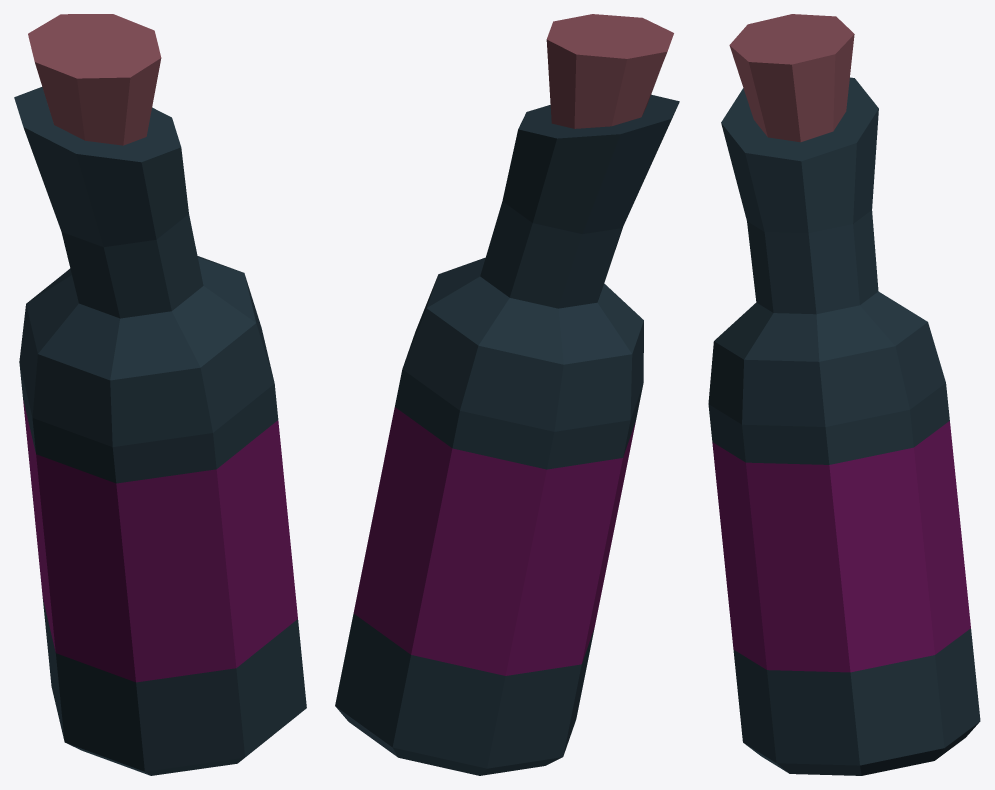
The model's file is FizzyDrink.MarlonTasty.fbx.
3 renders of one model, left to right at view 1: azimuth 30°, elevation 25°; view 2: azimuth 150°, elevation 25°; view 3: azimuth 270°, elevation 25°, orthographic. The views are drawn at different scales.
Parts seen in each view (by area): view 1: FizzyDrink.MarlonTasty; view 2: FizzyDrink.MarlonTasty; view 3: FizzyDrink.MarlonTasty.
Boxes of the visible parts, x1,y1,x2,y2 form: FizzyDrink.MarlonTasty: (14, 14, 306, 775); FizzyDrink.MarlonTasty: (335, 14, 679, 775); FizzyDrink.MarlonTasty: (708, 14, 980, 775).
Size of the model in its own units: 59.1 by 139 by 50.81.
